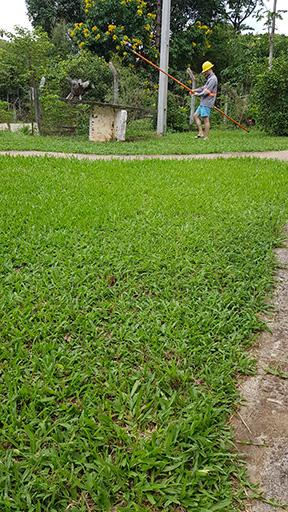Vara_Manobra: (130, 48, 249, 132)
